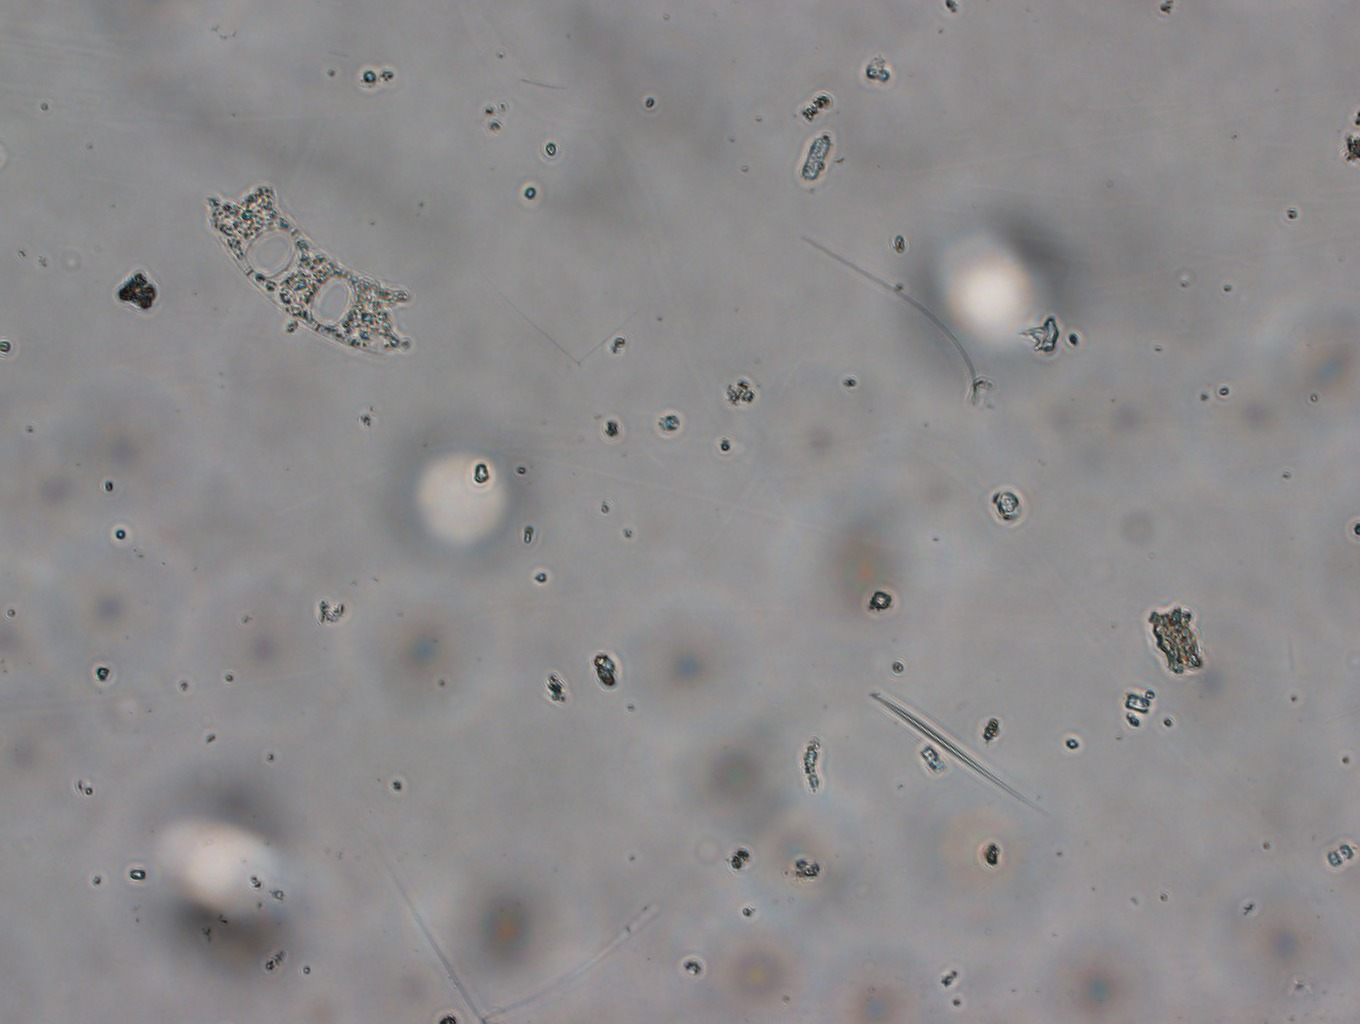eucampia: (204, 171, 466, 386)
